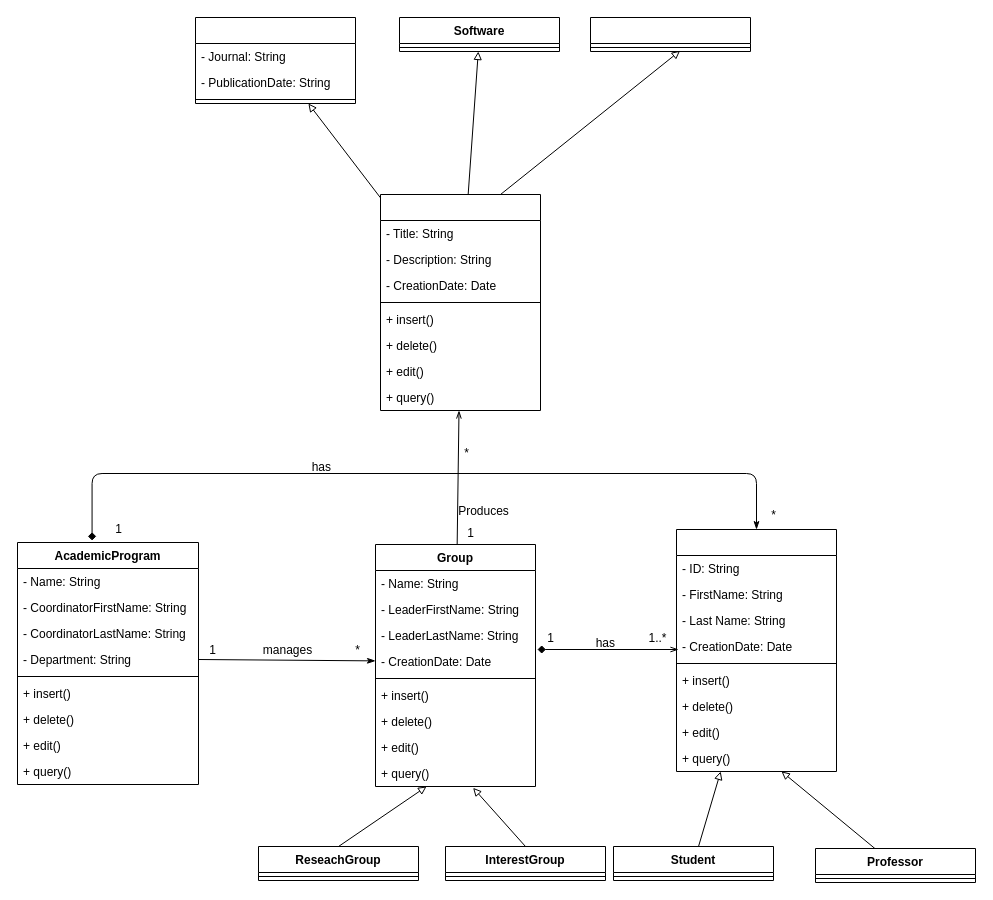
This 993x900 diagram has some shape labels left out. Here are the shapes that lost their labels. From the top down, the box of each, then its label:
(590, 16, 750, 52): Other
(194, 16, 356, 104): Article
(380, 194, 540, 410): Product
(676, 528, 836, 772): Member
